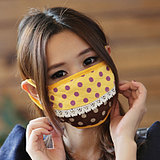face_mask: (41, 31, 115, 126)
